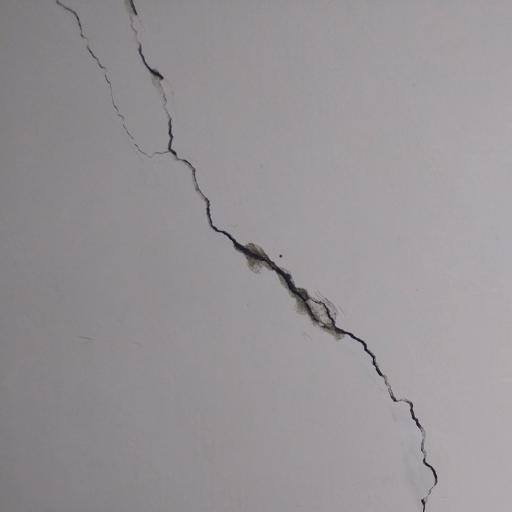major_crack: (49, 0, 473, 511)
